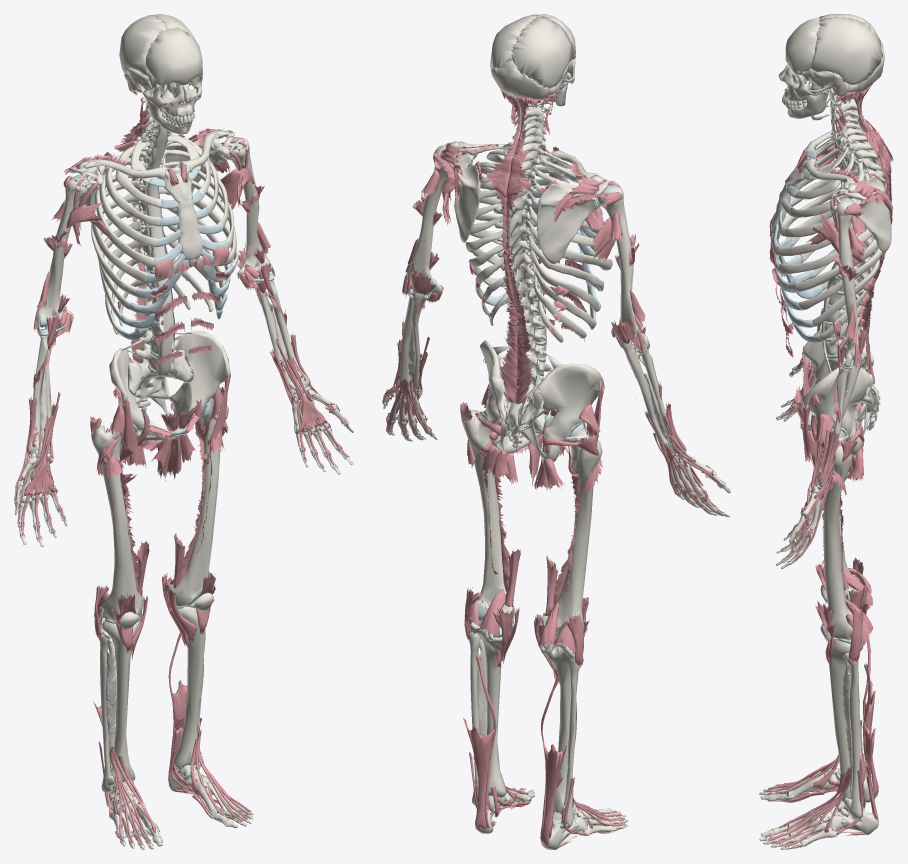
File: kaizen_anatomy_skeleton.glb
The picture shows the model from 3 angles, left to right: view 1: azimuth 30°, elevation 25°; view 2: azimuth 150°, elevation 25°; view 3: azimuth 270°, elevation 25°; orthographic projection. The views are drawn at different scales.
Parts seen in each view (by area): view 1: bone_femur_r, bone_femur_l, bone_hip_bone_l, bone_frontal_bone, bone_tibia_l, ligament_anterior_longitudinal_ligament, bone_tibia_r, bone_humerus_r, bone_parietal_bone_r, tendon_tendinous_component_of_rectus_abdominis_muscle_r, bone_humerus_l, bone_hip_bone_r (+22 smaller); view 2: bone_hip_bone_r, bone_femur_r, bone_femur_l, bone_parietal_bone_r, bone_scapula_r, bone_tibia_l, tendon_tendinous_component_of_transverse_part_of_trapezius_m (×2), bone_tibia_r, bone_scapula_l, bone_humerus_r, tendon_tendinous_component_of_descending_part_of_trapezius_m (×2), tendon_tendinous_component_of_latissimus_dorsi_muscle_r (+21 smaller); view 3: bone_parietal_bone_l, bone_femur_l, bone_hip_bone_l, bone_tibia_l, bone_scapula_l, bone_humerus_l, bone_frontal_bone, bone_fibula_l, bone_hip_bone_r, tendon_tendinous_component_of_long_head_of_biceps_femoris_l, bone_temporal_bone_l, ligament_interosseous_membrane_of_leg_l (+41 smaller).
Boxes of the visible parts, <box> form: bone_femur_r: <box>92,425,143,621</box>; bone_femur_l: <box>168,398,228,605</box>; bone_hip_bone_l: <box>169,330,230,439</box>; bone_frontal_bone: <box>145,27,202,87</box>; bone_tibia_l: <box>174,606,205,769</box>; ligament_anterior_longitudinal_ligament: <box>145,108,174,378</box>; bone_tibia_r: <box>102,619,139,782</box>; bone_humerus_r: <box>36,178,88,326</box>; bone_parietal_bone_r: <box>119,15,168,76</box>; tendon_tendinous_component_of_rectus_abdominis_muscle_r: <box>153,259,189,431</box>; bone_humerus_l: <box>227,139,270,278</box>; bone_hip_bone_r: <box>109,348,172,440</box>; bone_hip_bone_r: <box>532,363,604,461</box>; bone_femur_r: <box>539,428,602,632</box>; bone_femur_l: <box>462,409,514,621</box>; bone_parietal_bone_r: <box>511,16,573,88</box>; bone_scapula_r: <box>537,178,608,263</box>; bone_tibia_l: <box>476,629,506,797</box>; tendon_tendinous_component_of_transverse_part_of_trapezius_m (×2): <box>440,143,606,198</box>; bone_tibia_r: <box>541,646,578,812</box>; bone_scapula_l: <box>437,142,480,242</box>; bone_humerus_r: <box>600,185,647,343</box>; tendon_tendinous_component_of_descending_part_of_trapezius_m (×2): <box>453,164,576,310</box>; tendon_tendinous_component_of_latissimus_dorsi_muscle_r: <box>508,218,615,404</box>; bone_parietal_bone_l: <box>809,17,882,85</box>; bone_femur_l: <box>823,432,853,640</box>; bone_hip_bone_l: <box>801,367,872,455</box>; bone_tibia_l: <box>828,637,852,802</box>; bone_scapula_l: <box>830,176,891,252</box>; bone_humerus_l: <box>831,201,858,360</box>; bone_frontal_bone: <box>785,17,820,74</box>; bone_fibula_l: <box>846,653,861,818</box>; bone_hip_bone_r: <box>803,328,873,427</box>; tendon_tendinous_component_of_long_head_of_biceps_femoris_l: <box>848,448,863,662</box>; bone_temporal_bone_l: <box>808,71,857,98</box>; ligament_interosseous_membrane_of_leg_l: <box>842,661,852,794</box>.
Size of the model in its own units: 0.8008 by 1.79 by 0.2712.
